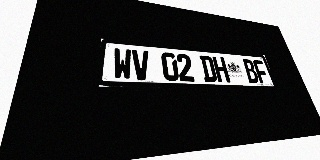0: (161, 52, 180, 81)
2: (176, 53, 195, 82)
B: (242, 59, 260, 83)
D: (199, 55, 218, 82)
F: (252, 60, 270, 83)
H: (212, 56, 231, 82)
V: (132, 49, 151, 80)
W: (113, 48, 132, 80)
